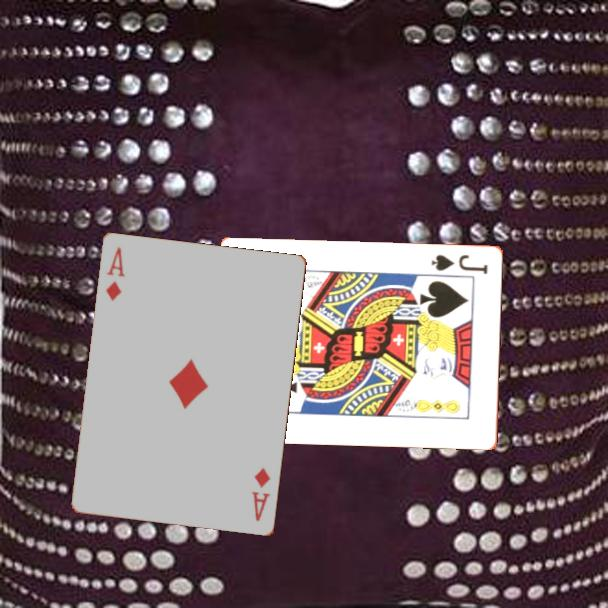d01: (249, 464, 274, 525), (103, 244, 128, 304)
s11: (428, 251, 491, 276)
